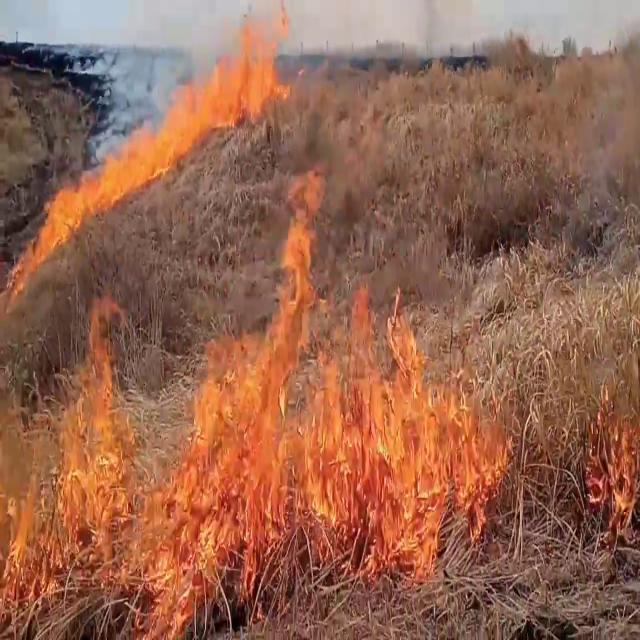Fire: (158, 163, 507, 588), (31, 49, 210, 268), (55, 283, 138, 553), (196, 0, 294, 126), (584, 363, 640, 531)
